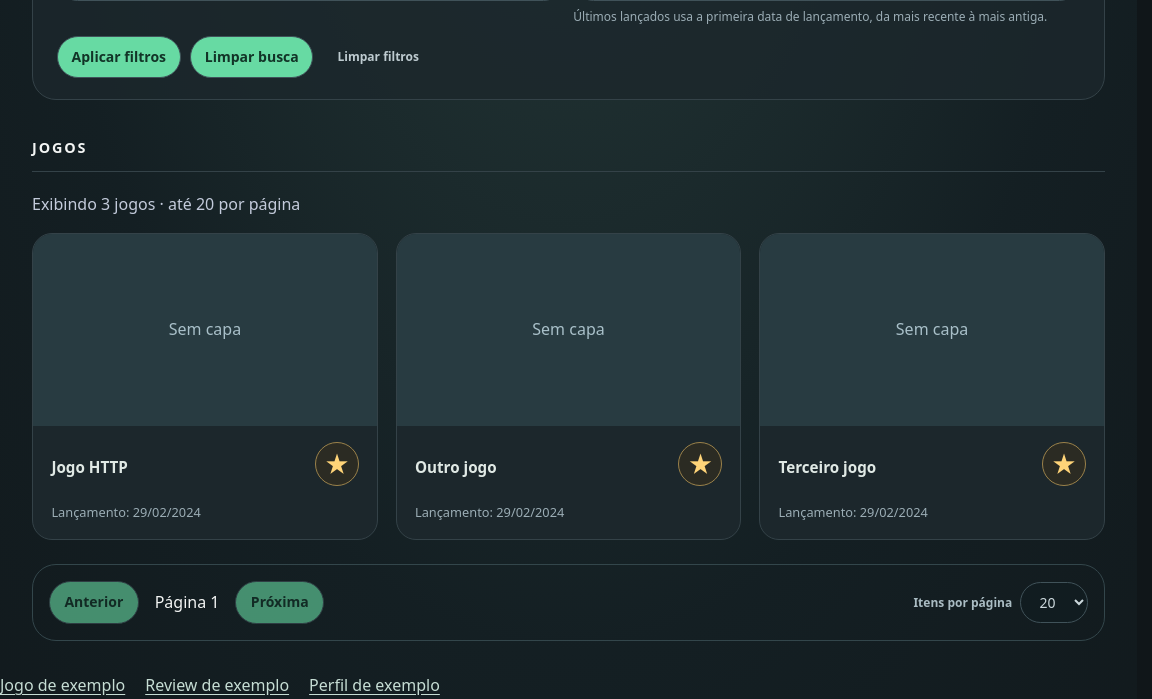
Test case: resposta antiga de escrita não contamina nova sessão
(page scrolled)
Click the button named "Remover jogo Jogo HTTP dos favoritos": (336, 464) [314, 442, 358, 486]
(page scrolled)
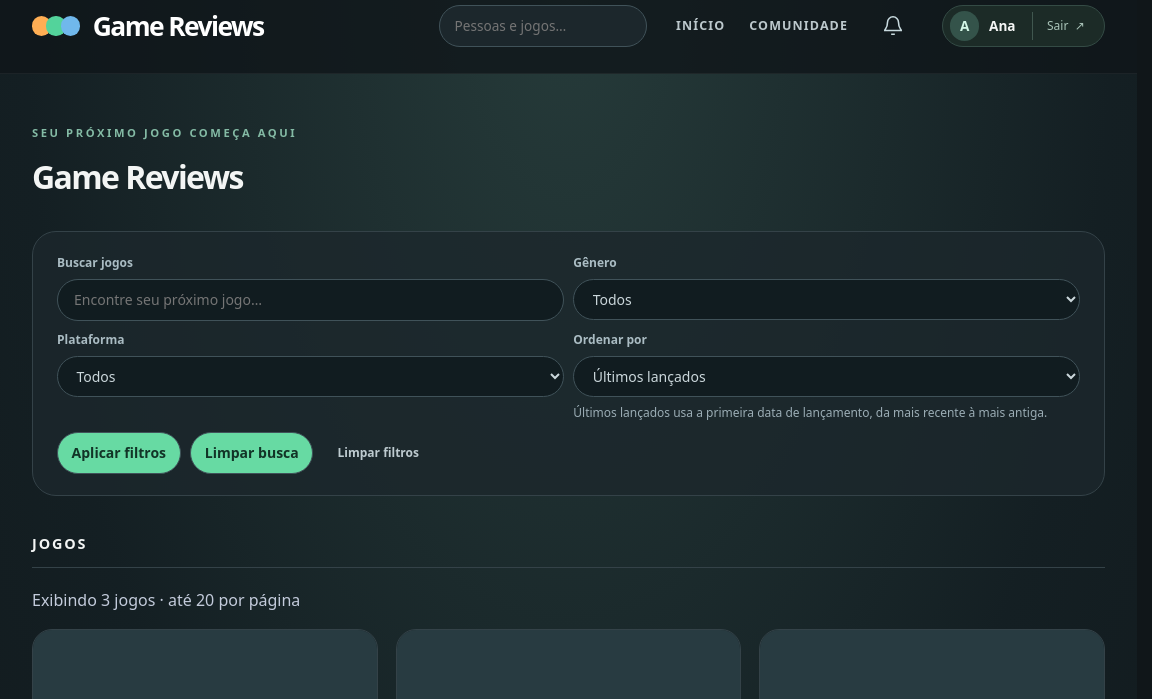
Click the button "Sair ↗": (1063, 26) [1032, 12, 1094, 40]
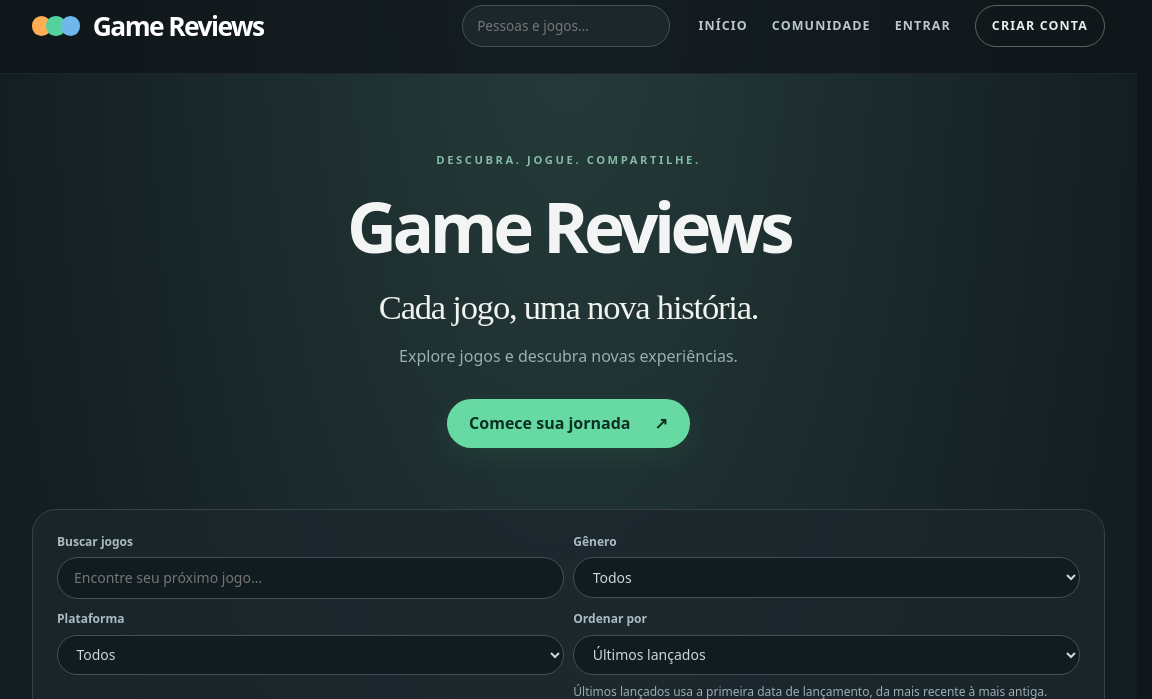
Click the link "Entrar": (923, 26) [895, 16, 951, 36]
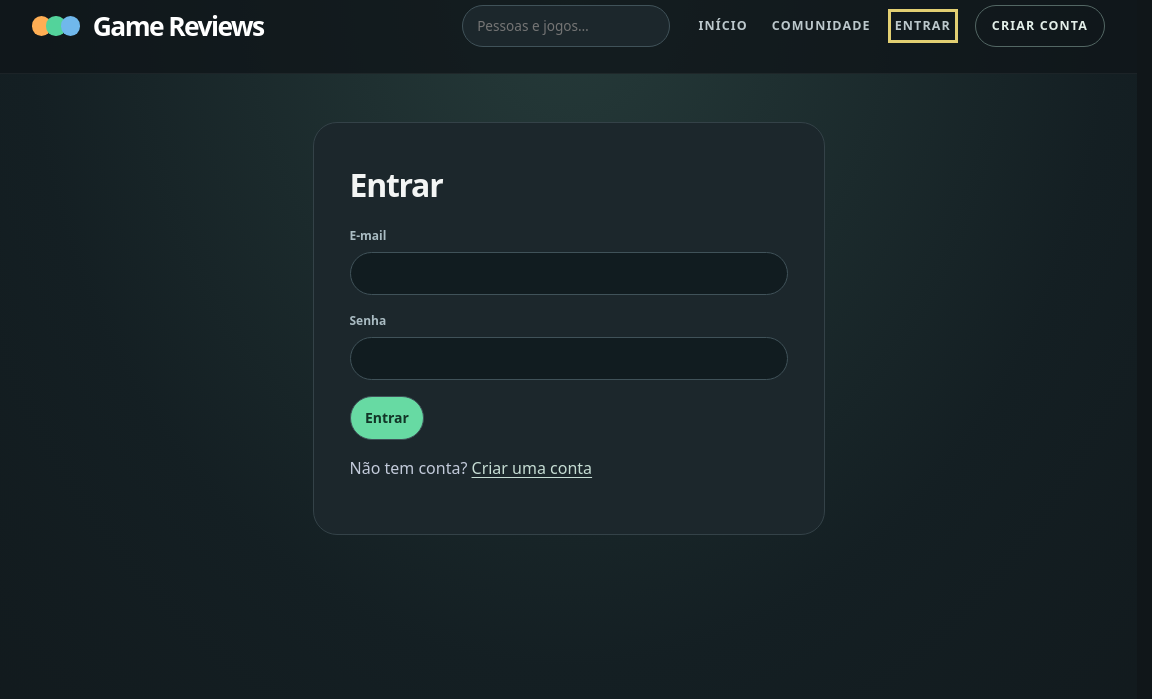
In the field labelled "E-mail": (568, 274) [350, 252, 788, 295], type "next@example.test"
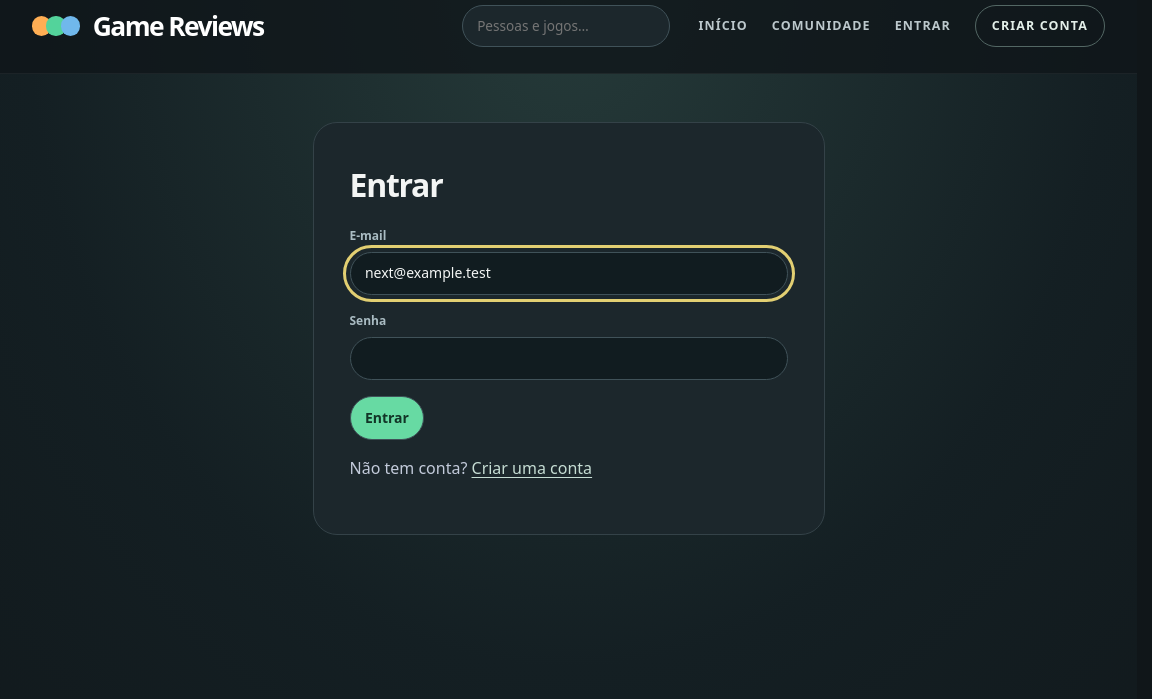
In the password field labelled "Senha": (568, 359) [350, 337, 788, 380], type "test-only"
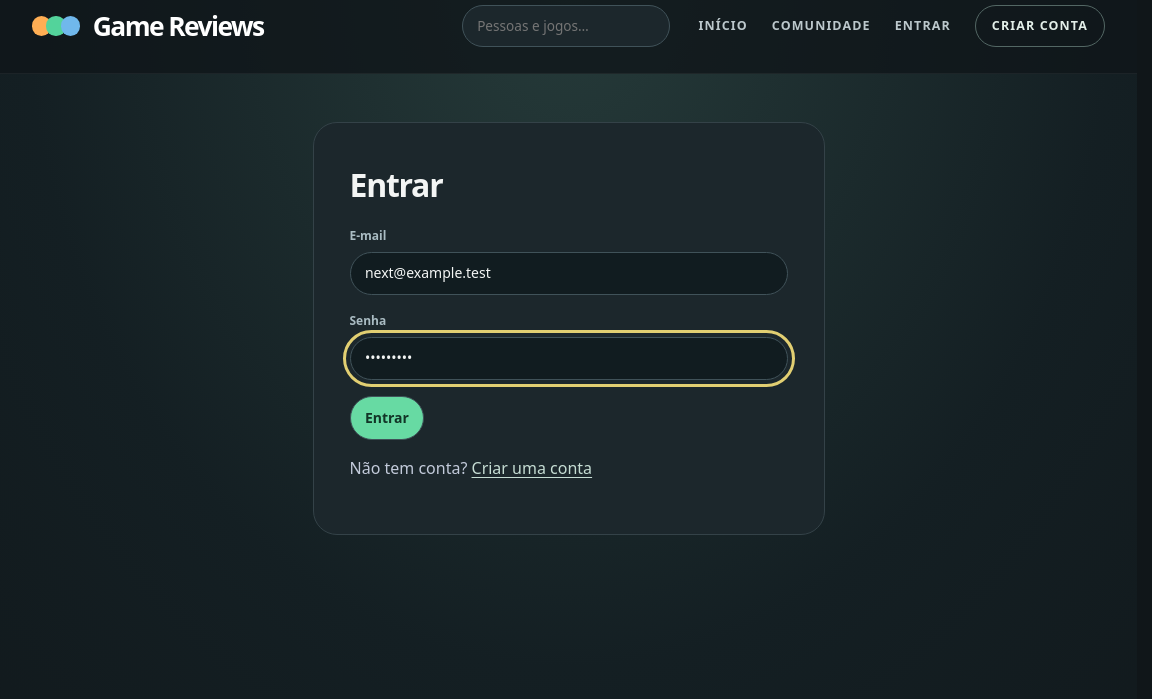
Click the button "Entrar": (387, 418) [350, 396, 424, 440]
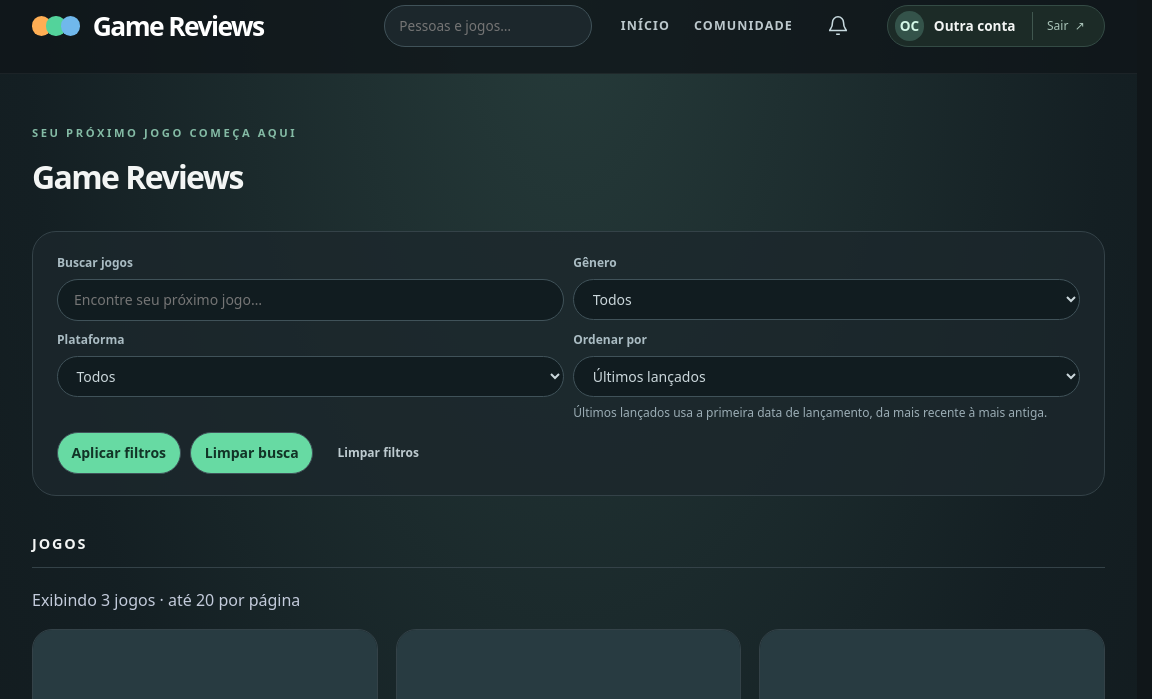
Now the text named "Usuário conectado" reads "Outra conta", box [934, 16, 1016, 35]
